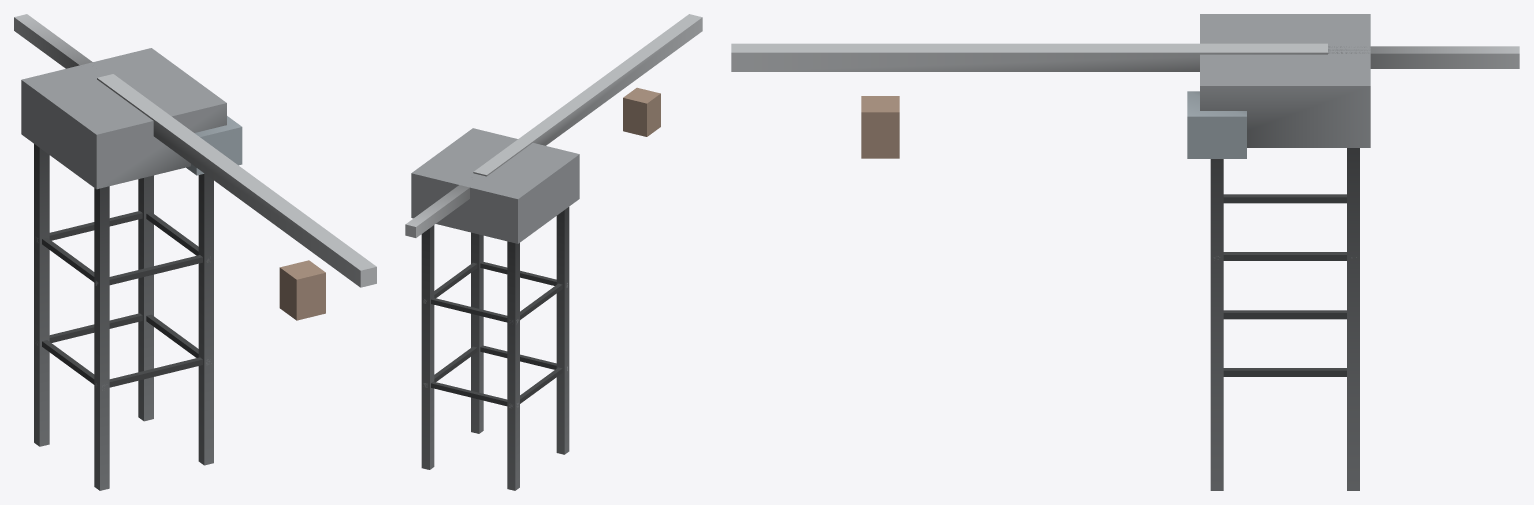
File: dock_crane.lod2.glb
3 renders of one model, left to right at view 1: azimuth 30°, elevation 25°; view 2: azimuth 150°, elevation 25°; view 3: azimuth 270°, elevation 25°, orthographic. The views are drawn at different scales.
Visible parts, largest first — view 1: props_dock_crane.lod2; view 2: props_dock_crane.lod2; view 3: props_dock_crane.lod2.
Boxes of the visible parts, x1=… form: props_dock_crane.lod2: x1=14, y1=14, x2=376, y2=490; props_dock_crane.lod2: x1=405, y1=14, x2=702, y2=490; props_dock_crane.lod2: x1=731, y1=14, x2=1519, y2=490.
Bounding box in the file's own units: 4.3 × 10.65 × 18.5.
